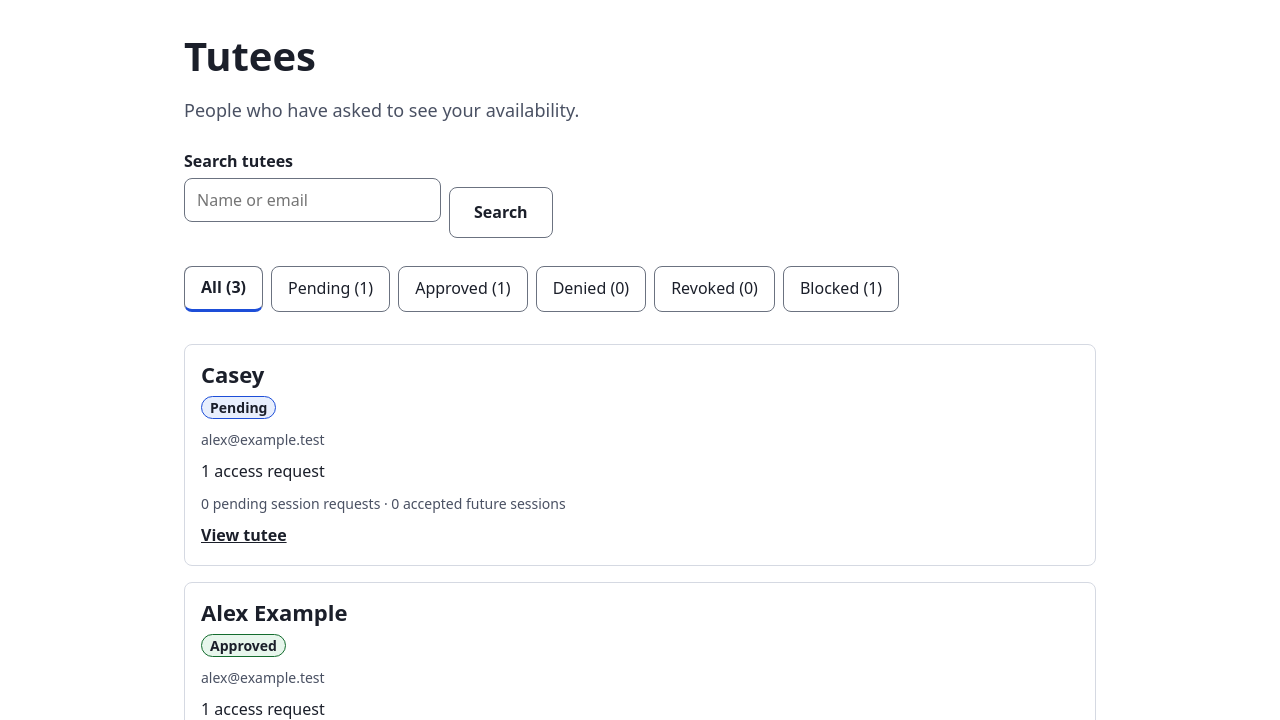
it: tutees list page › shows counts on the chips and filters by status with aria-pressed
Expected: the heading "Alex Example" is shown, 201,597 -> 348,627
Expected: the button "All (3)" is shown, 184,266 -> 263,312
Click the button "Blocked (1)": (841, 289) 783,266 -> 899,312
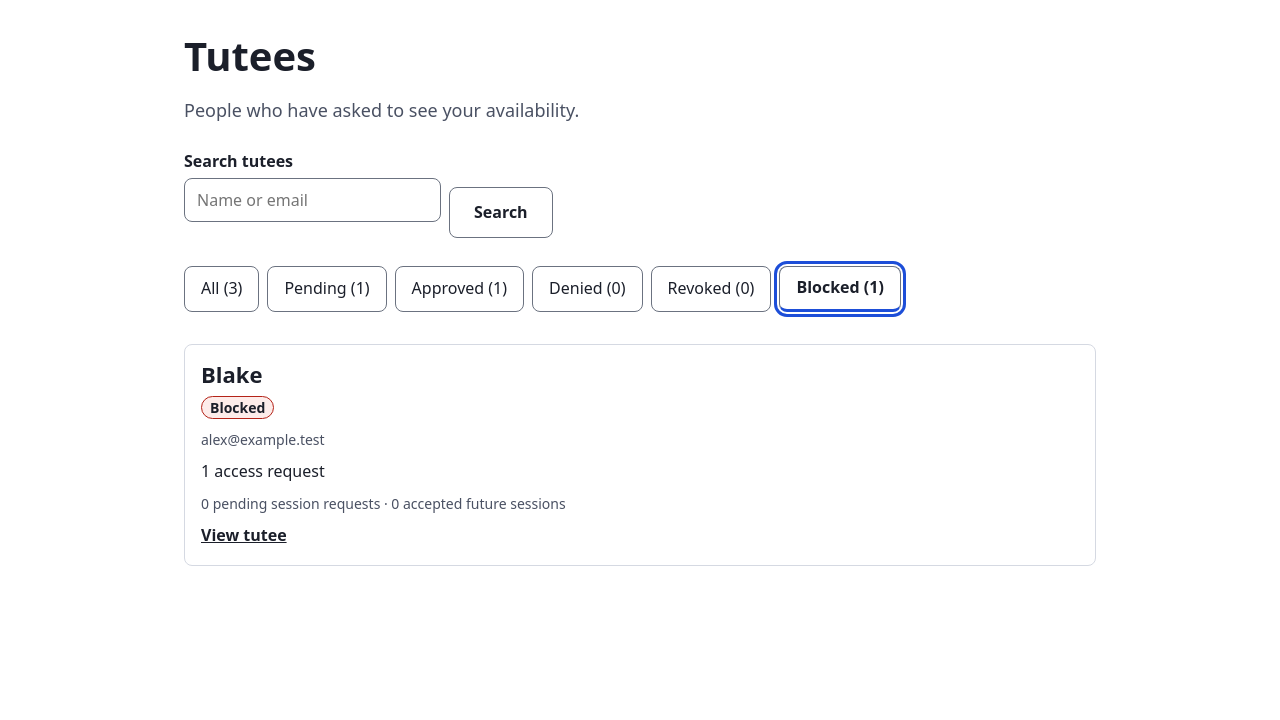
Expected: the button "Blocked (1)" is shown, 779,266 -> 901,312
Expected: the link "Alex Example" is gone
